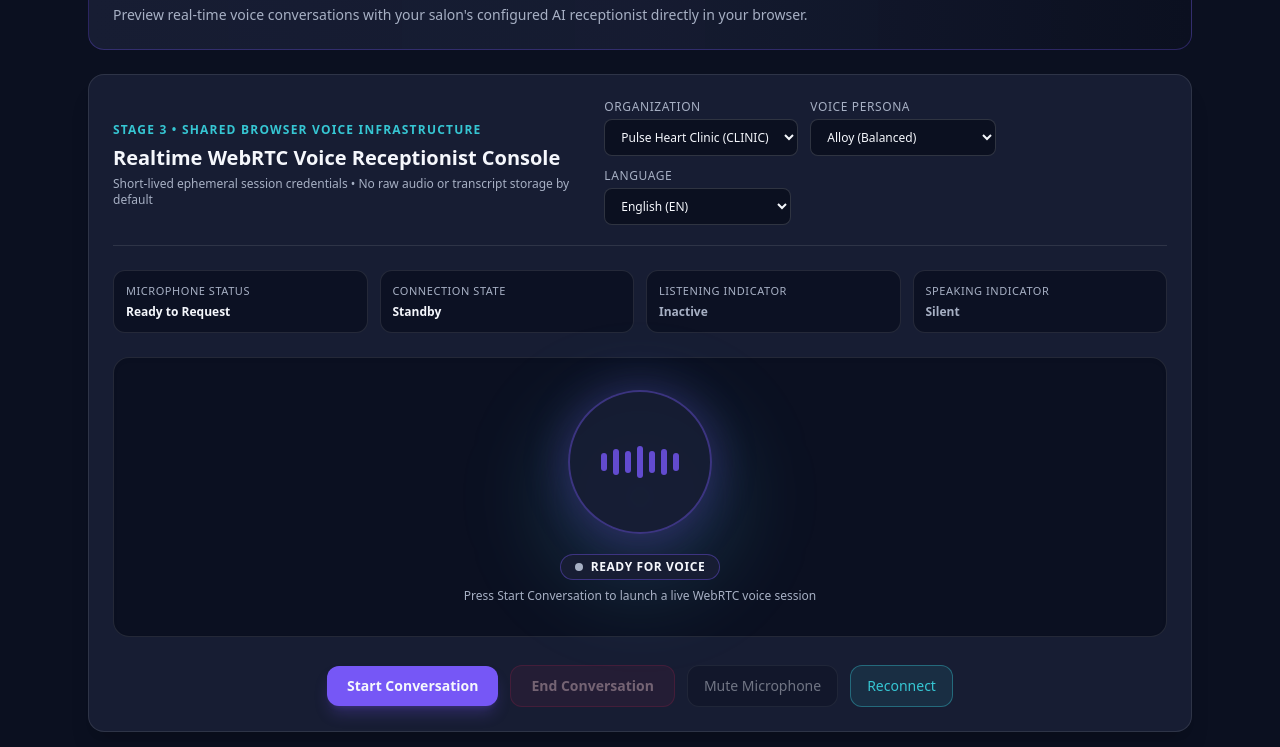
Test case: Stage 4 — Realtime Agent Tool Calling, Escalation UI & Language Selector › executes backend tools on response.function_call_arguments.done and returns function_call_output over oai-events
(page scrolled)
Click the button with test id "start-conversation-button": (413, 686) left=327, top=666, right=498, bottom=706
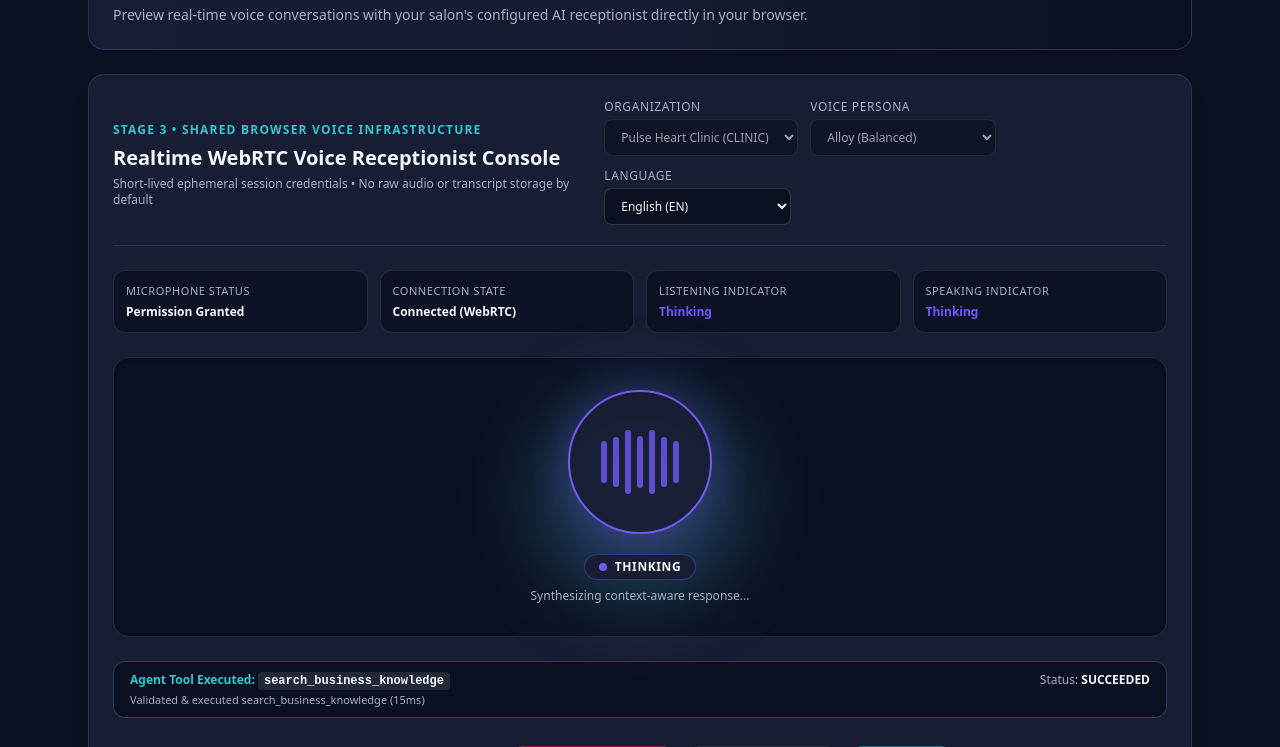
Now the text "search_business_knowledge" is shown, box left=258, top=672, right=450, bottom=690
Now the element with test id "last-tool-execution-badge" shows "search_business_knowledge", box left=264, top=674, right=444, bottom=688
